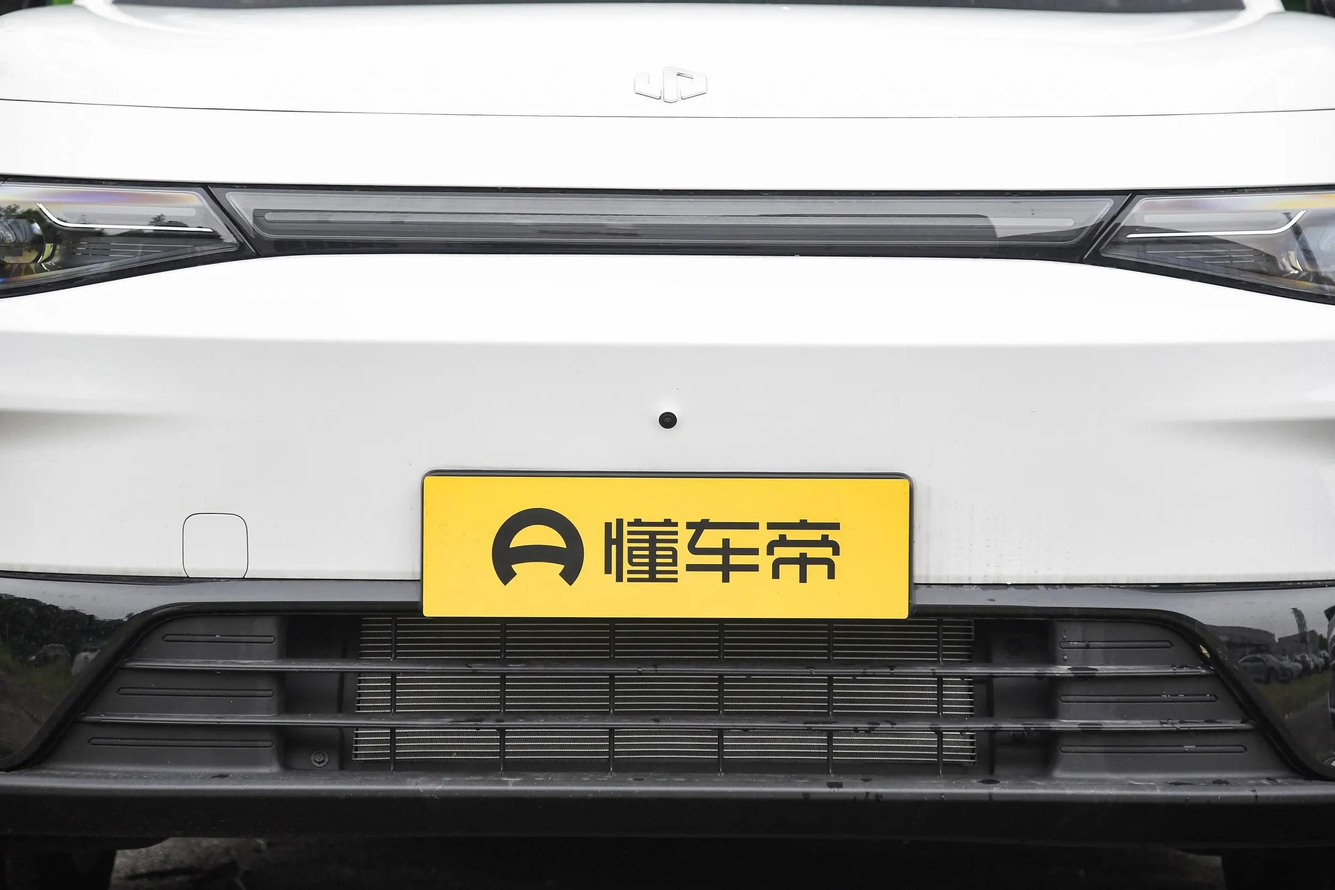LEAPMOTOR: (633, 65, 707, 102)
